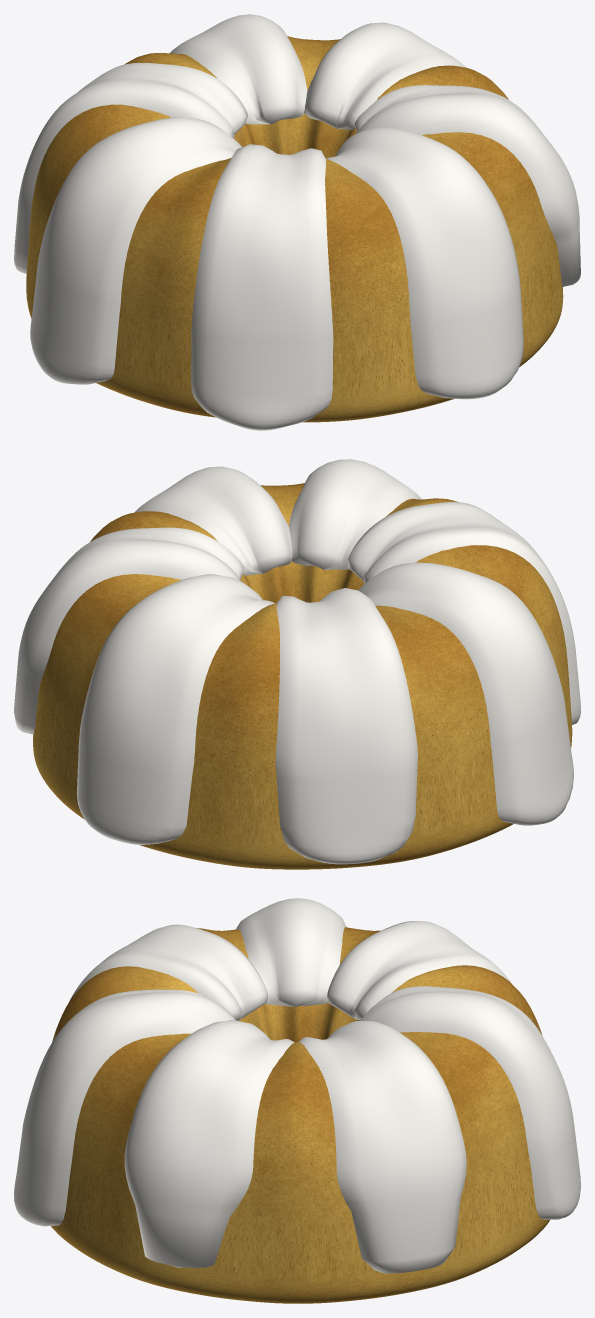
File: bundt_lemon_6.glb
3 views of the same model, one above another, from view 1: azimuth 30°, elevation 25°; view 2: azimuth 150°, elevation 25°; view 3: azimuth 270°, elevation 25° (orthographic).
Parts seen in each view (by area): view 1: cake.001, frosting.004, frosting.005, frosting.003, frosting.006, frosting.002, frosting.001, frosting; view 2: cake.001, frosting.002, frosting.001, frosting.003, frosting, frosting.004, frosting.005, frosting.006; view 3: cake.001, frosting, frosting.006, frosting.005, frosting.001, frosting.003, frosting.002, frosting.004.
Boxes of the visible parts, left/top/right/bottom form: cake.001: left=26, top=36, right=563, bottom=422; frosting.004: left=191, top=144, right=333, bottom=430; frosting.005: left=326, top=127, right=523, bottom=399; frosting.003: left=30, top=117, right=241, bottom=384; frosting.006: left=354, top=85, right=580, bottom=286; frosting.002: left=14, top=62, right=247, bottom=274; frosting.001: left=170, top=14, right=307, bottom=124; frosting: left=304, top=22, right=465, bottom=129; cake.001: left=33, top=483, right=572, bottom=869; frosting.002: left=275, top=588, right=417, bottom=864; frosting.001: left=77, top=574, right=275, bottom=844; frosting.003: left=358, top=562, right=573, bottom=825; frosting: left=14, top=527, right=244, bottom=734; frosting.004: left=347, top=502, right=580, bottom=724; frosting.005: left=288, top=459, right=421, bottom=569; frosting.006: left=134, top=466, right=292, bottom=575; cake.001: left=51, top=927, right=549, bottom=1303; frosting: left=299, top=1021, right=466, bottom=1273; frosting.006: left=124, top=1020, right=294, bottom=1267; frosting.005: left=14, top=989, right=235, bottom=1226; frosting.001: left=359, top=986, right=580, bottom=1219; frosting.003: left=236, top=898, right=346, bottom=1006; frosting.002: left=327, top=921, right=512, bottom=1020; frosting.004: left=68, top=924, right=267, bottom=1020.
Size of the model in its own units: 0.1627 by 0.0732 by 0.167.
2 materials, 1 textured.
